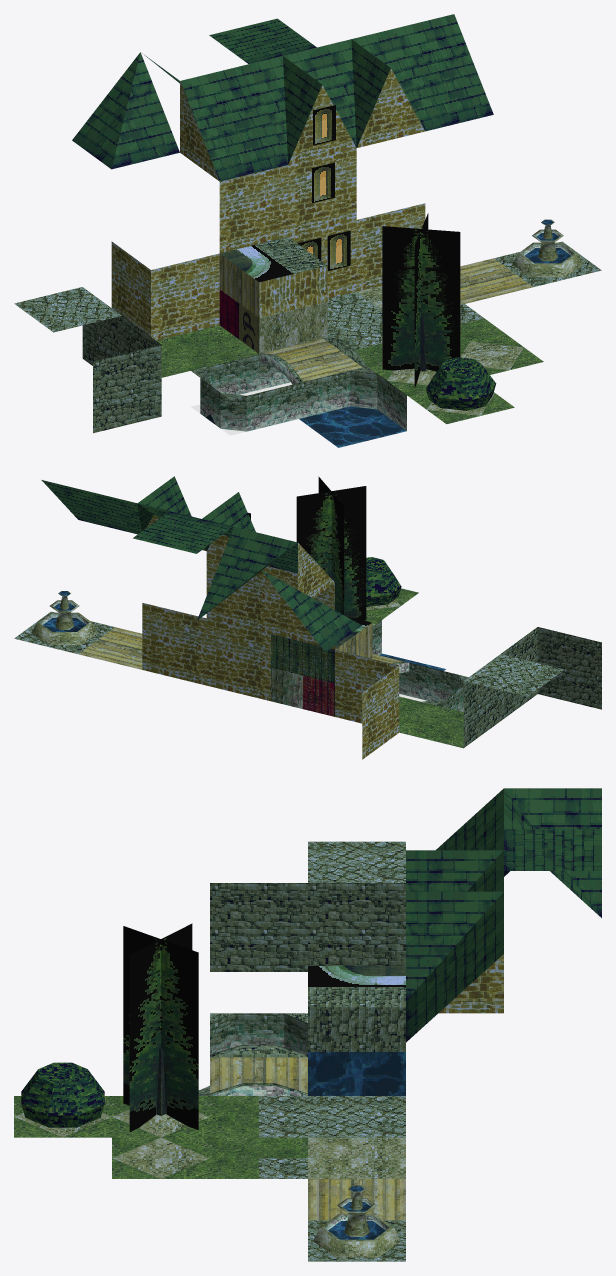
File: TownTiles_002.glb
3 views of the same model, one above another, from view 1: azimuth 30°, elevation 25°; view 2: azimuth 150°, elevation 25°; view 3: azimuth 270°, elevation 25° (orthographic). The views are drawn at different scales.
Visible parts, largest first — view 1: Town_Dirts.002, Cube, building_Wall.006, building_Wall.008, building_Wall.009, building_Wall.007, building_Wall.005, Town_River.003, Building_Roof.007, Town_Wall.001, Town_River.001, building_Wall.001 (+16 smaller); view 2: Town_Dirts.002, Town_Wall.001, Cube, building_Wall.008, building_Wall.002, building_Wall.003, Building_Roof.005, Town_Road.001, building_Wall.004, building_Wall, Building_Roof.007, Town_Road.002 (+13 smaller); view 3: Town_Dirts.002, Cube, Town_Wall.001, Town_Wall, building_Wall.007, Town_Dirts.004, Building_Roof.005, Town_Road.001, Cube.001, building_Wall.009, building_Wall.005, Town_Road (+10 smaller).
Boxes of the visible parts, left/top/right/bottom form: Town_Dirts.002: left=368, top=213, right=460, bottom=395; Cube: left=219, top=237, right=327, bottom=353; building_Wall.006: left=180, top=64, right=287, bottom=181; building_Wall.008: left=111, top=241, right=219, bottom=340; building_Wall.009: left=386, top=14, right=493, bottom=131; building_Wall.007: left=317, top=31, right=425, bottom=147; building_Wall.005: left=249, top=47, right=356, bottom=164; Town_River.003: left=298, top=366, right=406, bottom=447; Building_Roof.007: left=72, top=52, right=179, bottom=169; Town_Wall.001: left=93, top=316, right=161, bottom=433; Town_River.001: left=191, top=354, right=298, bottom=435; building_Wall.001: left=219, top=165, right=288, bottom=253; Town_Dirts.002: left=296, top=476, right=381, bottom=626; Town_Wall.001: left=500, top=627, right=601, bottom=720; Cube: left=271, top=616, right=372, bottom=716; building_Wall.008: left=335, top=650, right=399, bottom=759; building_Wall.002: left=206, top=618, right=270, bottom=701; building_Wall.003: left=142, top=603, right=206, bottom=685; Building_Roof.005: left=197, top=527, right=297, bottom=620; Town_Road.001: left=14, top=591, right=114, bottom=653; building_Wall.004: left=206, top=551, right=270, bottom=633; building_Wall: left=271, top=634, right=334, bottom=716; Building_Roof.007: left=261, top=570, right=361, bottom=652; Town_Road.002: left=133, top=511, right=233, bottom=553; Town_Dirts.002: left=112, top=923, right=209, bottom=1137; Cube: left=308, top=966, right=405, bottom=1095; Town_Wall.001: left=210, top=883, right=307, bottom=971; Town_Wall: left=308, top=883, right=405, bottom=965; building_Wall.007: left=406, top=871, right=503, bottom=1000; Town_Dirts.004: left=14, top=1062, right=111, bottom=1137; Building_Roof.005: left=504, top=788, right=601, bottom=917; Town_Road.001: left=308, top=1185, right=405, bottom=1261; Cube.001: left=210, top=1044, right=307, bottom=1095; building_Wall.009: left=406, top=913, right=503, bottom=1042; building_Wall.005: left=406, top=830, right=503, bottom=891; Town_Road: left=308, top=1096, right=405, bottom=1137.
Bounding box in the file's own units: 16 × 7 × 12.
Materials: 2 (1 with a texture image).
